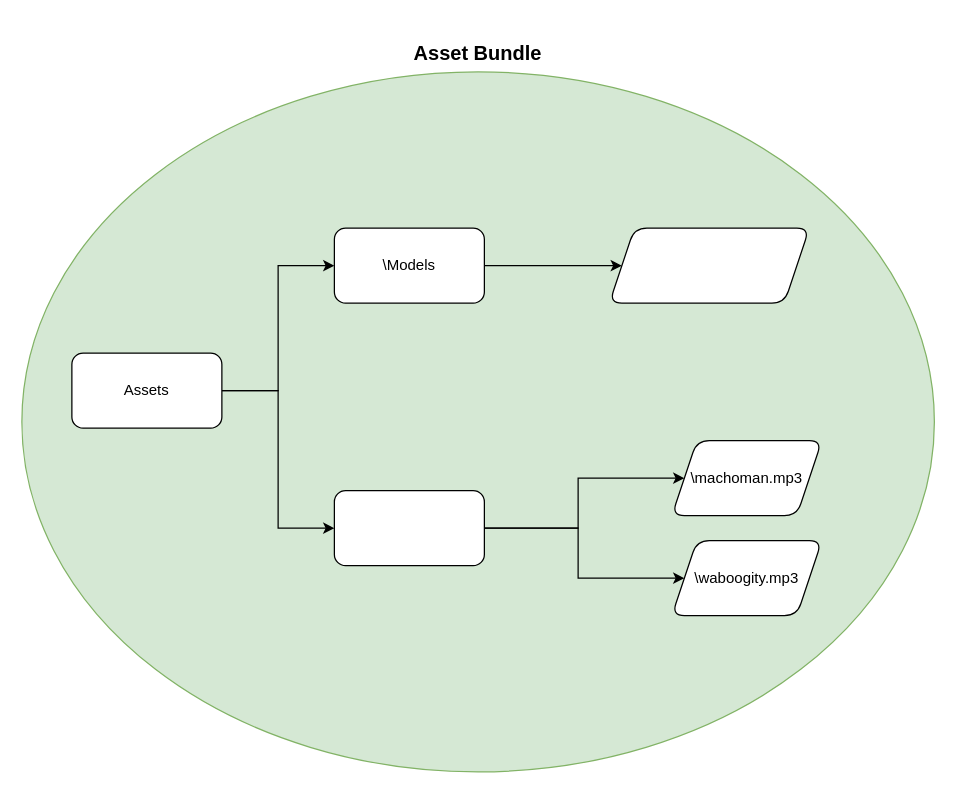
Image size: 956x794. Some labels were removed from this diagram. Each missing label, with the centre of its shape:
"\Sound" belongs at (408,527).
"\thumper_reskin.obj" belongs at (708,265).
